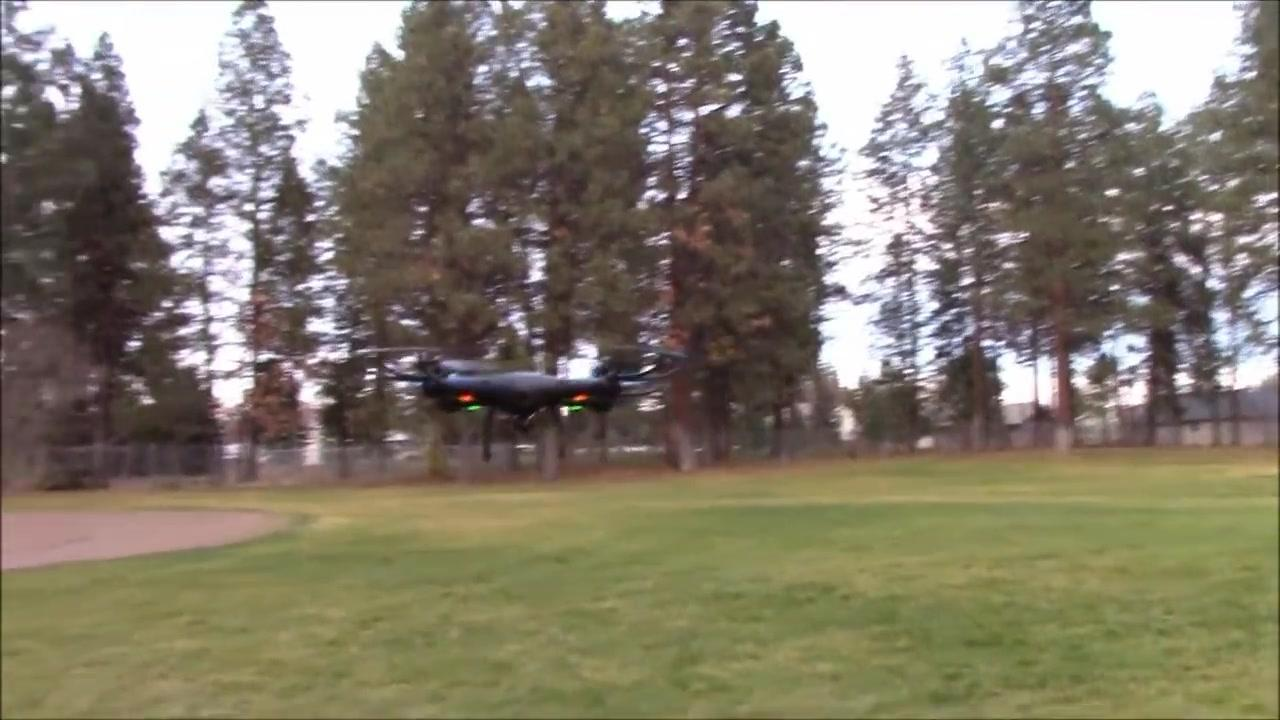UAV: (355, 347, 689, 464)
